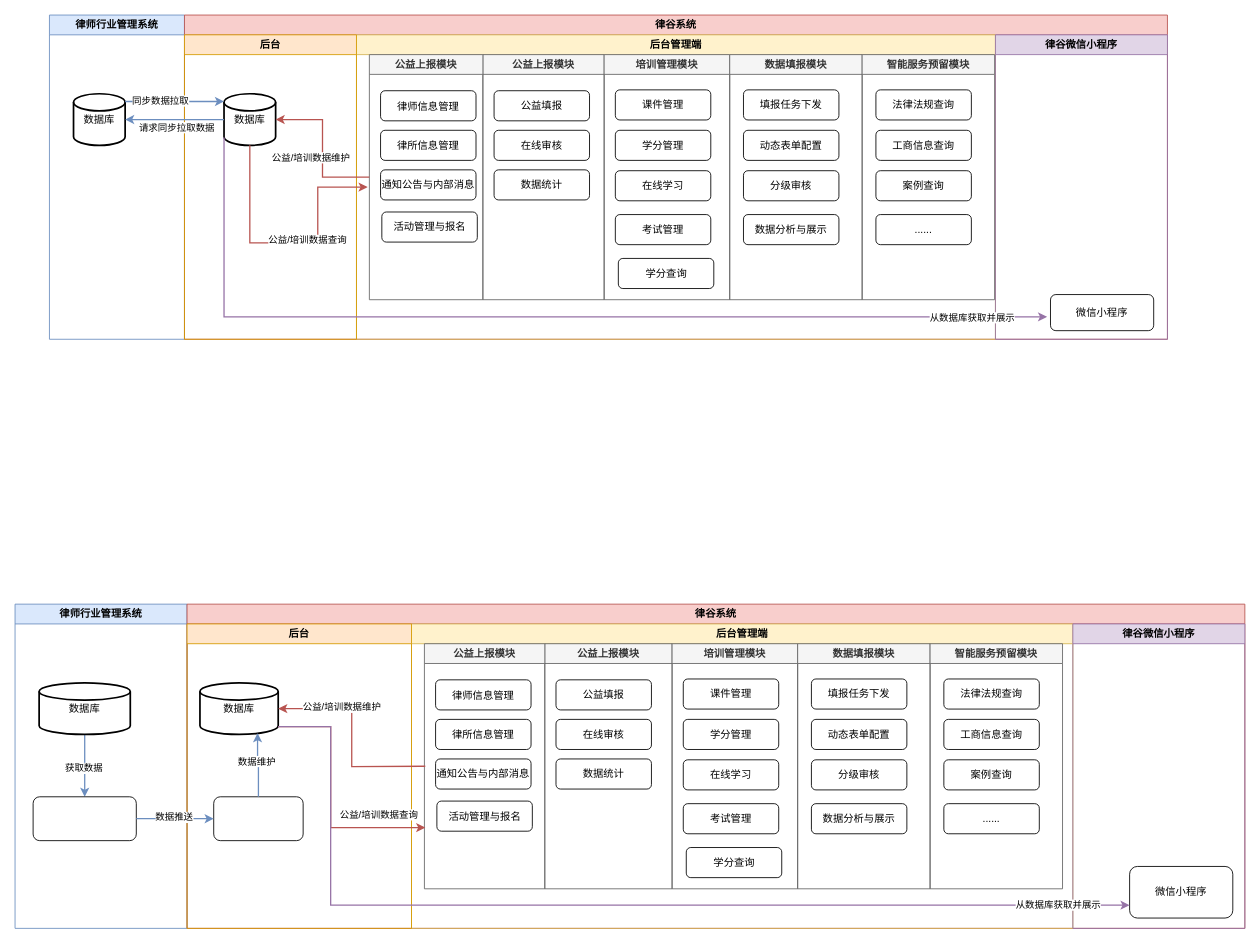
Image size: 1260x943. Some labels were removed from this diagram. Each missing label, with the box of its shape:
数据维护API: (213, 796, 303, 841)
获取数据API: (32, 796, 136, 841)
